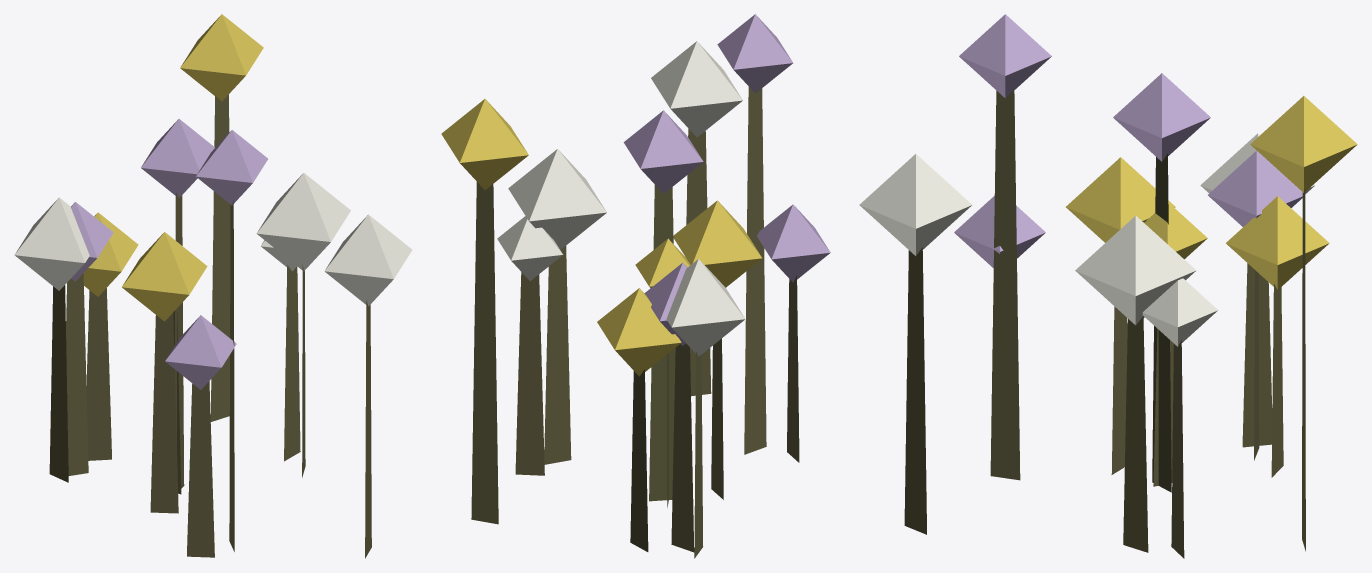
File: Wildflowers.fbx
3 views of the same model, side by side, from view 1: azimuth 30°, elevation 25°; view 2: azimuth 150°, elevation 25°; view 3: azimuth 270°, elevation 25° (orthographic). The views are drawn at different scales.
Parts seen in each view (by area): view 1: Wildflower_Yellow, Wildflower_White, Wildflower_Purple; view 2: Wildflower_White, Wildflower_Purple, Wildflower_Yellow; view 3: Wildflower_White, Wildflower_Purple, Wildflower_Yellow.
Boxes of the visible parts, left/top/right/bottom form: Wildflower_Yellow: left=83, top=14, right=263, bottom=513; Wildflower_White: left=14, top=173, right=412, bottom=558; Wildflower_Purple: left=66, top=119, right=267, bottom=557; Wildflower_White: left=497, top=41, right=745, bottom=558; Wildflower_Purple: left=623, top=14, right=830, bottom=552; Wildflower_Yellow: left=441, top=99, right=762, bottom=551; Wildflower_White: left=859, top=133, right=1314, bottom=558; Wildflower_Purple: left=954, top=14, right=1302, bottom=492; Wildflower_Yellow: left=1066, top=96, right=1357, bottom=551.
Size of the model in its own units: 0.2882 by 0.4079 by 0.397.
Materials: 1 (1 with a texture image).
